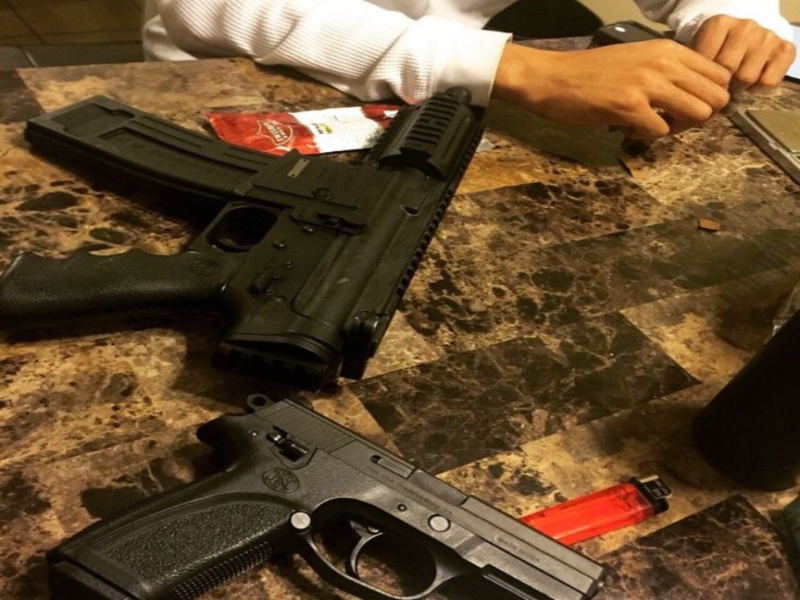person: (140, 1, 800, 143)
weapon: (1, 87, 486, 384), (46, 397, 609, 600)
